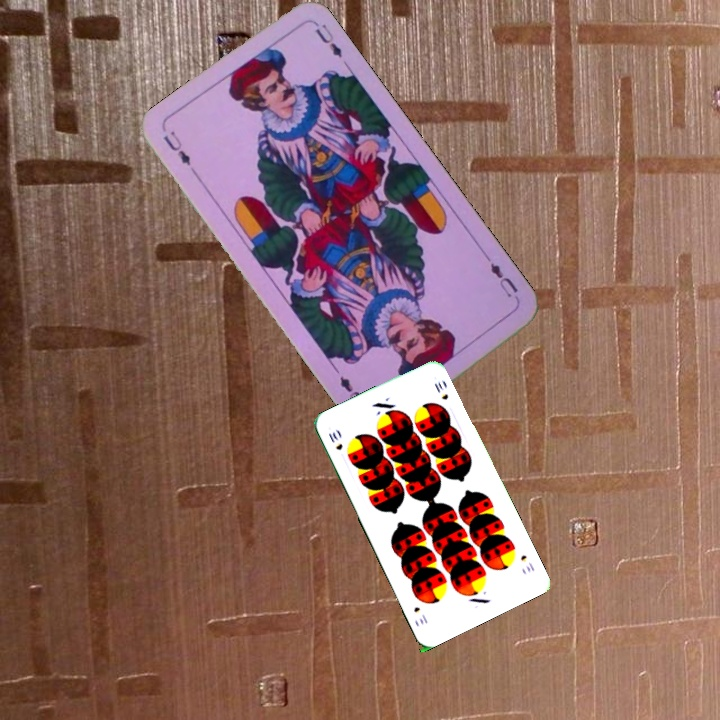EU: (159, 126, 201, 179), (481, 252, 521, 301)
S10: (324, 428, 345, 453), (516, 551, 537, 575)
